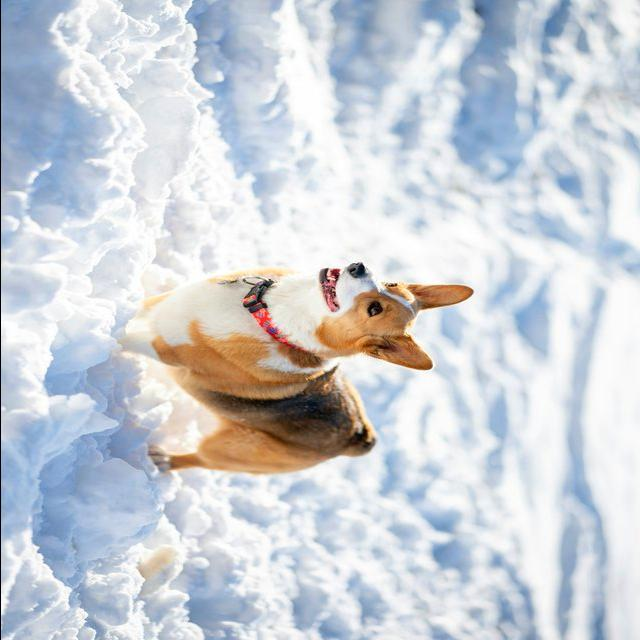corgi: (117, 260, 474, 475)
